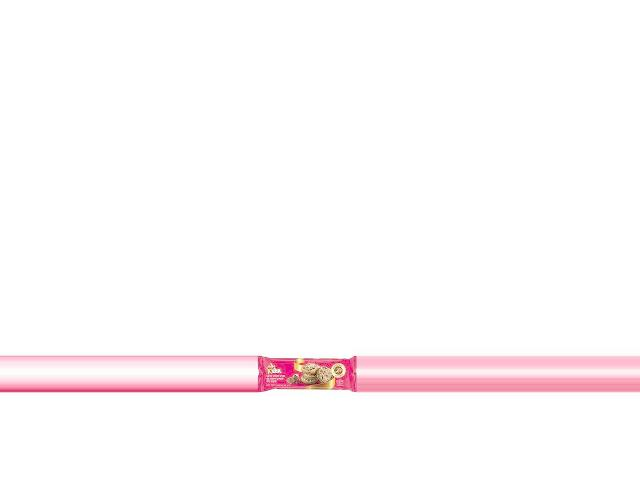chocolate: (256, 357, 354, 395)
